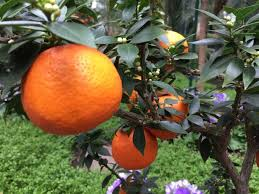orange: (21, 48, 117, 135), (112, 123, 159, 172)
